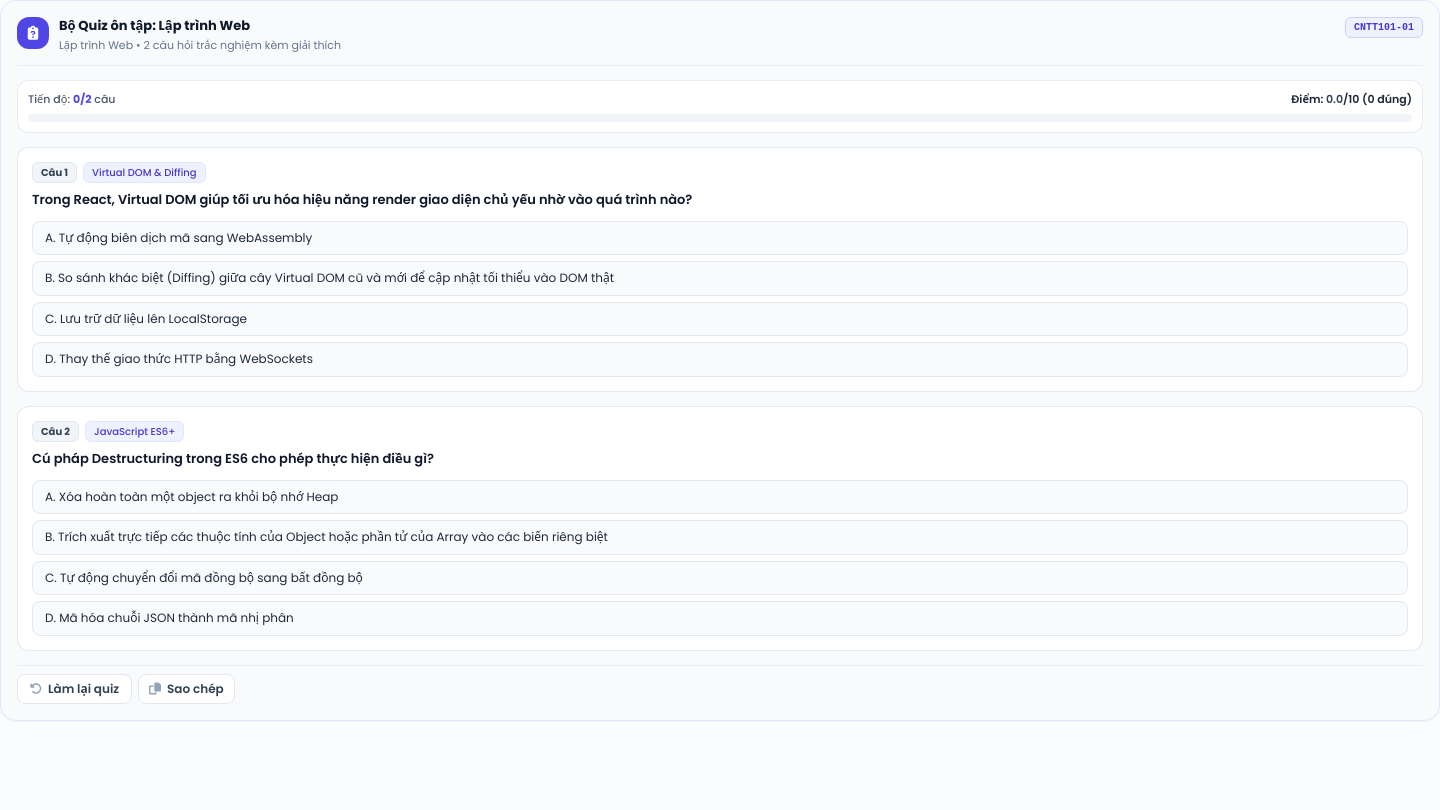
Scenario: InteractiveQuizCard Component › supports copying quiz questions to clipboard
Click the button "Sao chép": (186, 689) [138,674,235,704]
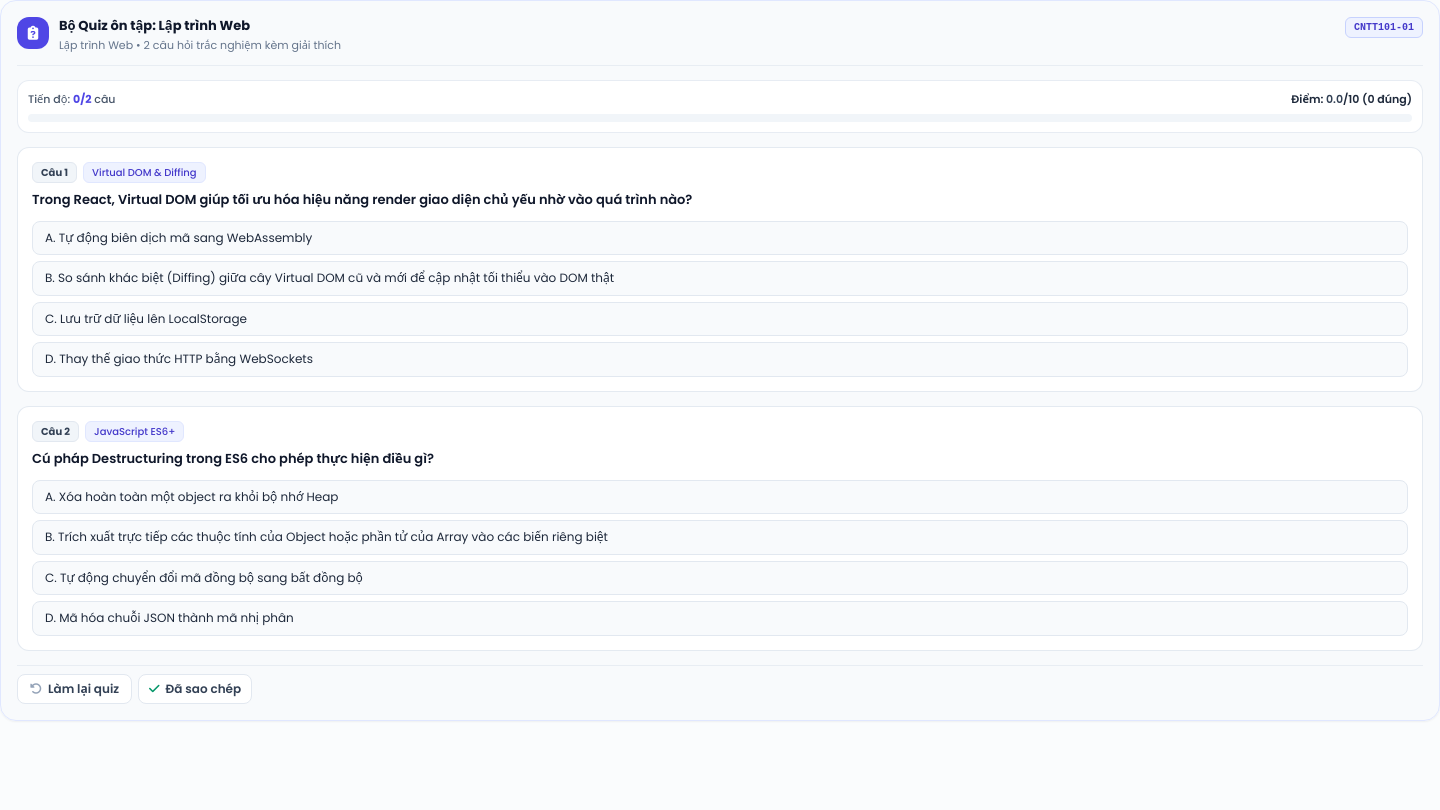
Now the text "Đã sao chép" is shown, box [166,681,241,697]
